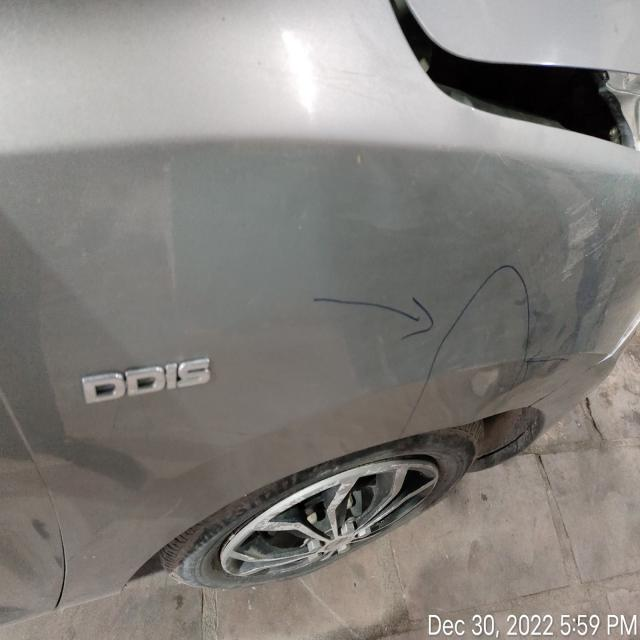damage: (389, 0, 633, 150), (53, 529, 73, 609), (470, 365, 500, 397)
